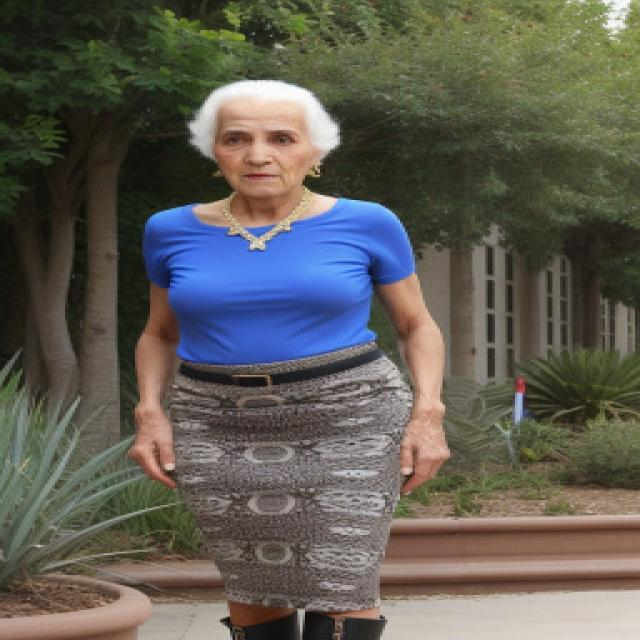Ai human 2: (116, 59, 482, 640)
